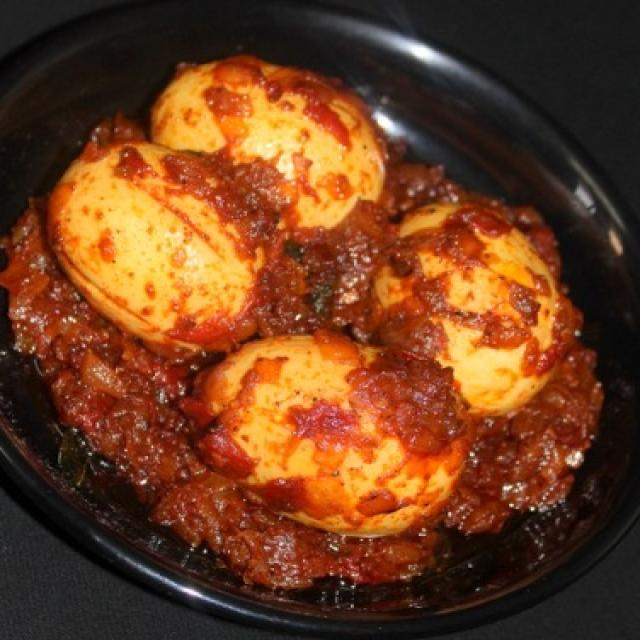EGG: (14, 44, 589, 577)
